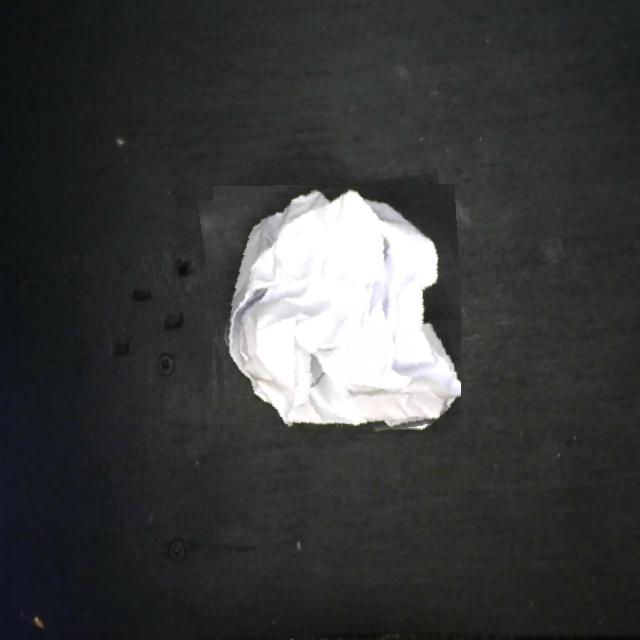biodegradable: (205, 179, 461, 442)
